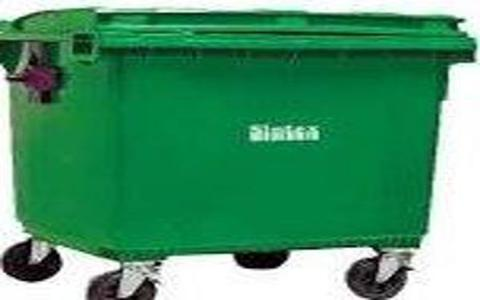Proper garbage: (3, 1, 474, 297)
